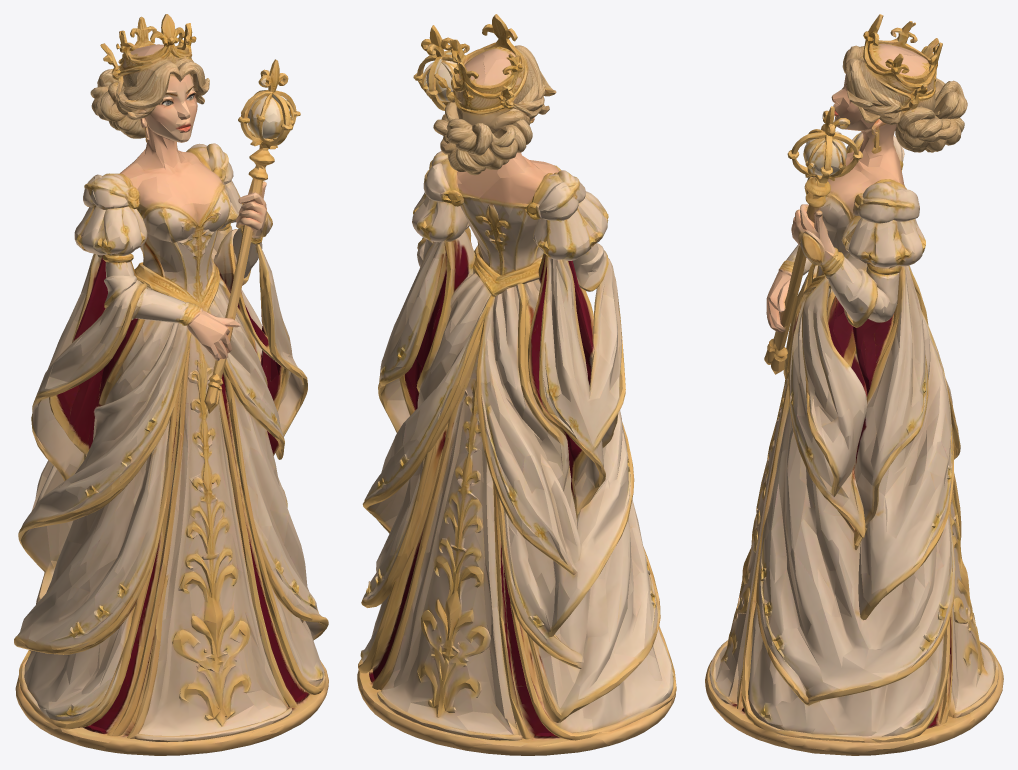
Rendered from queen_white.glb.
3 renders of one model, left to right at view 1: azimuth 30°, elevation 25°; view 2: azimuth 150°, elevation 25°; view 3: azimuth 270°, elevation 25°, orthographic. The views are drawn at different scales.
Parts seen in each view (by area): view 1: output_unwrapped; view 2: output_unwrapped; view 3: output_unwrapped.
Boxes of the visible parts, x1=… form: output_unwrapped: x1=14, y1=14, x2=328, y2=755; output_unwrapped: x1=357, y1=14, x2=676, y2=755; output_unwrapped: x1=705, y1=14, x2=1003, y2=755.
Bounding box in the file's own units: 0.056 × 0.13 × 0.0519.
1 material, 1 textured.
